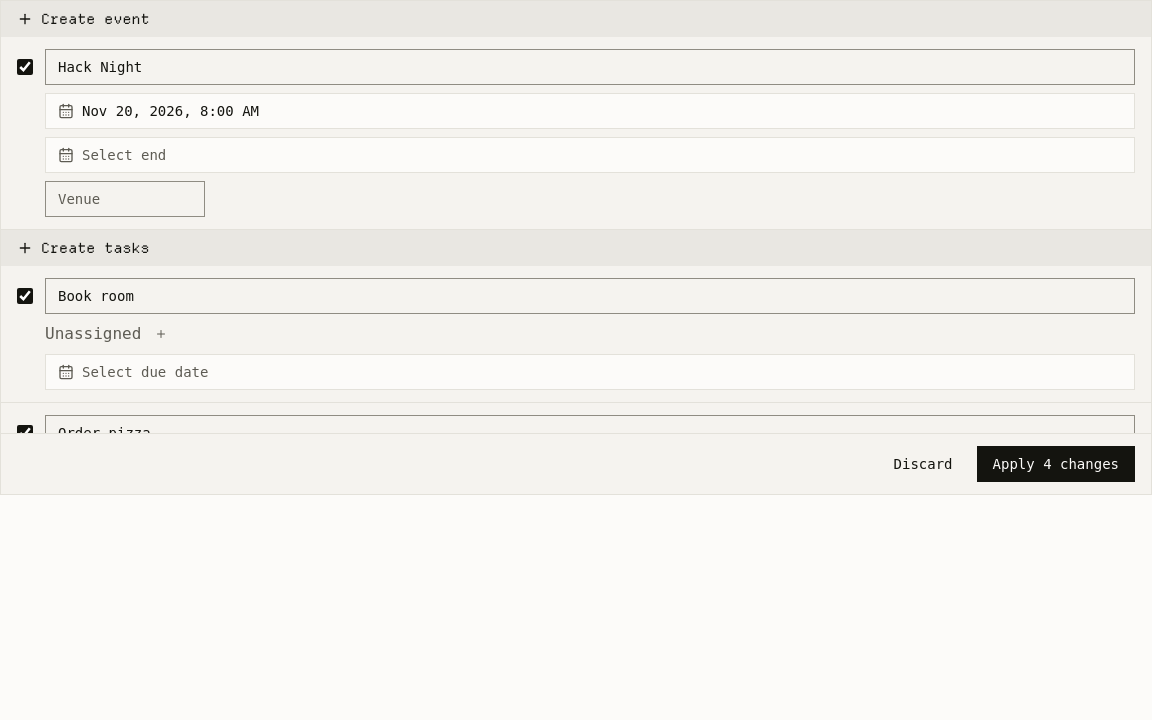
Scenario: ProposalCard › blocks the footer while a checked row is invalid
Clear the field named "Title" below "Create tasks" at (590, 296), box [45,278,1135,314]
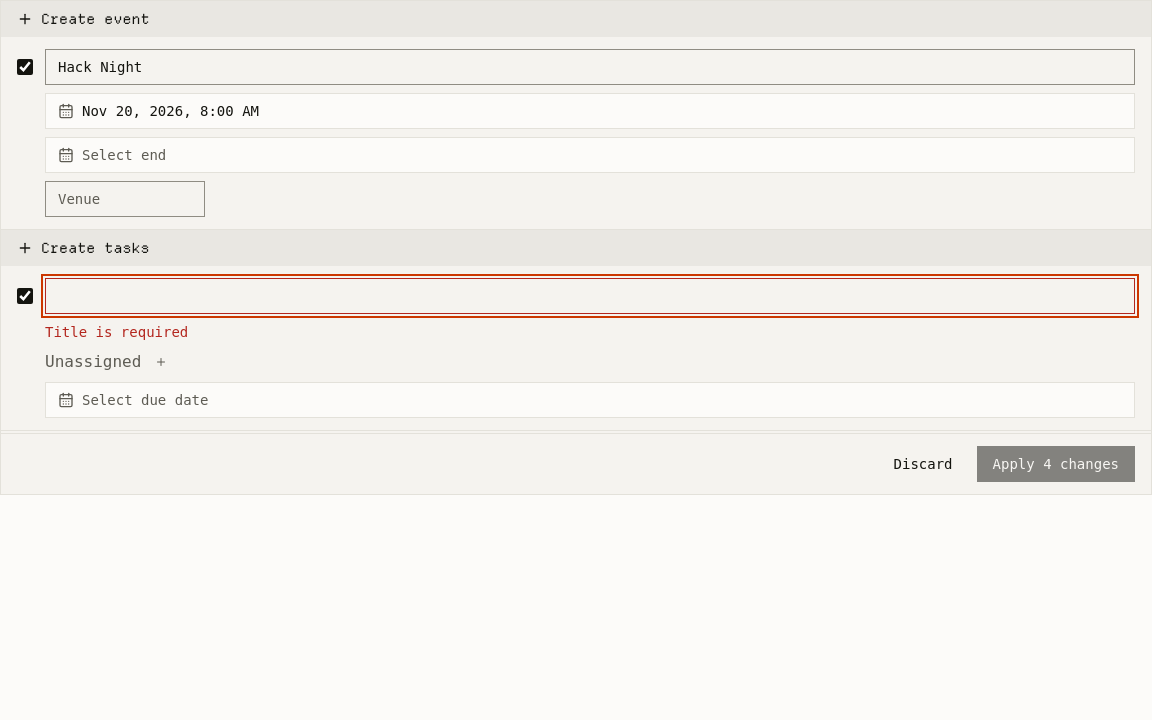
Now the button "Apply 4 changes" is disabled, box [977,446,1135,482]
Now the text "Title is required" is shown, box [45,324,188,340]
